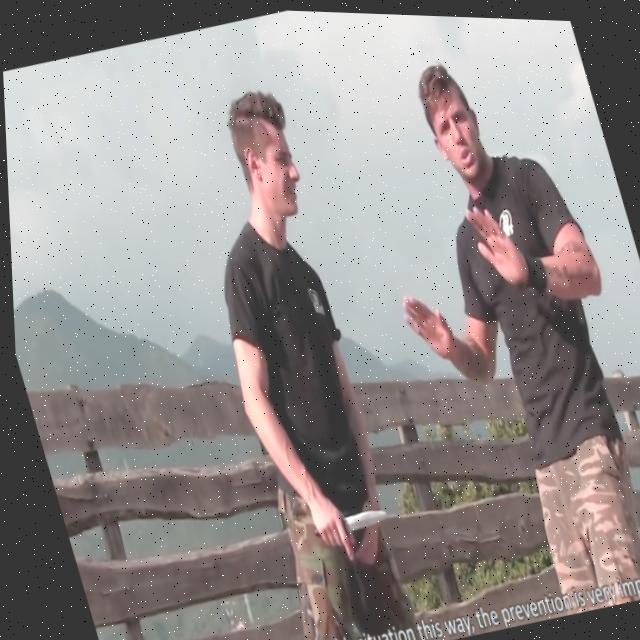knife: (333, 495, 385, 531)
